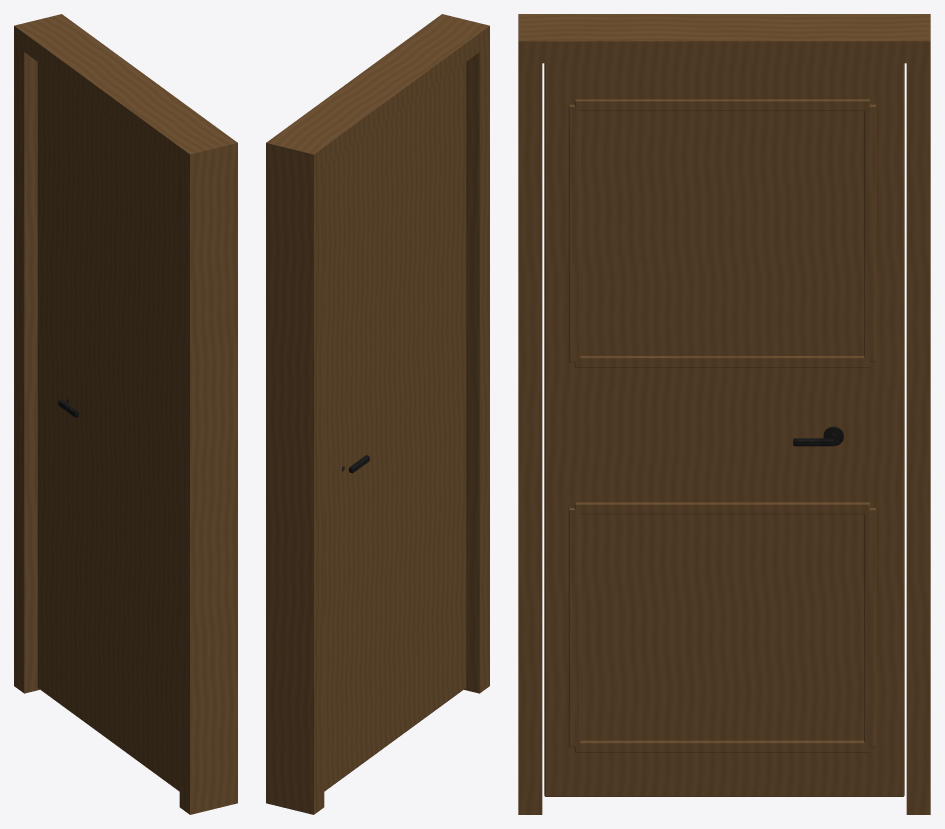
The model's file is ENV_DoorSet.fbx.
3 renders of one model, left to right at view 1: azimuth 30°, elevation 25°; view 2: azimuth 150°, elevation 25°; view 3: azimuth 270°, elevation 25°, orthographic. The views are drawn at different scales.
Parts seen in each view (by area): view 1: Door_Panel, Door_Frame; view 2: Door_Panel, Door_Frame; view 3: Door_Panel, Door_Frame.
Part boxes in pixels (bbox=[...]): Door_Panel: bbox=[37, 62, 179, 791]; Door_Frame: bbox=[14, 14, 237, 814]; Door_Panel: bbox=[324, 62, 466, 791]; Door_Frame: bbox=[266, 14, 489, 814]; Door_Panel: bbox=[544, 63, 904, 796]; Door_Frame: bbox=[518, 14, 930, 814].
Bounding box in the file's own units: 16 × 211 × 102.
